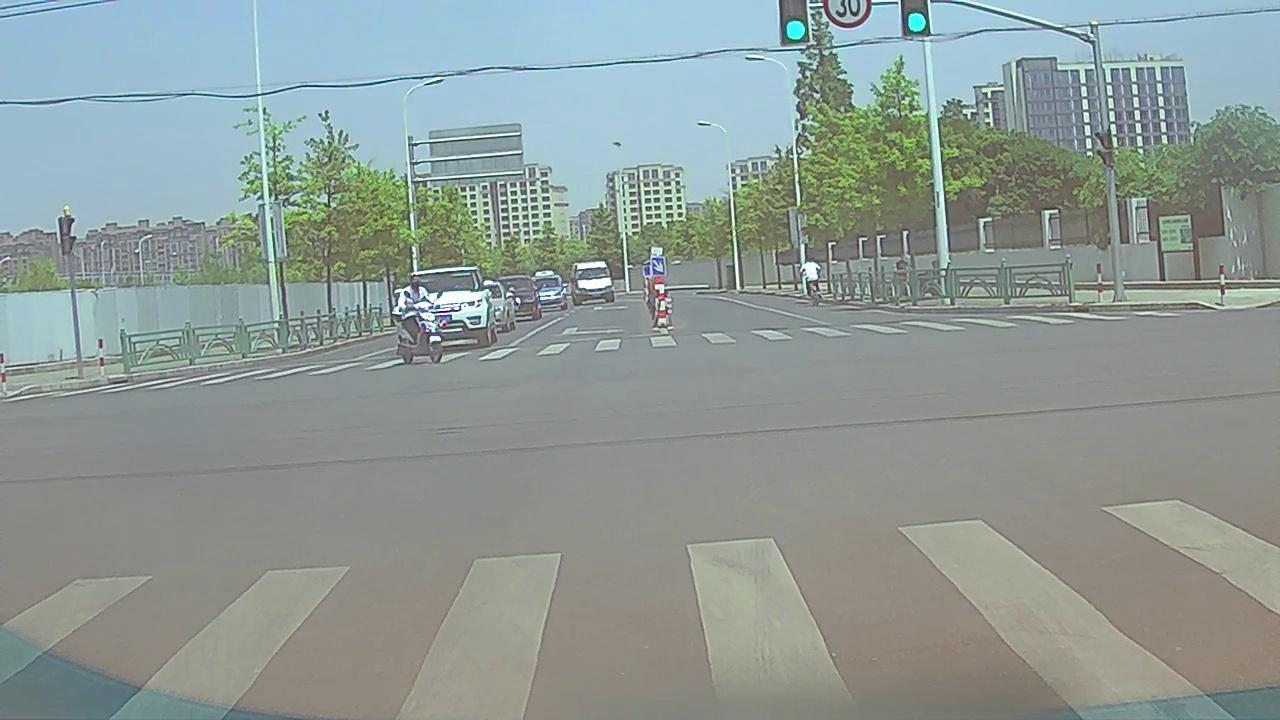traffic_light: (780, 1, 808, 42), (902, 1, 930, 36)
